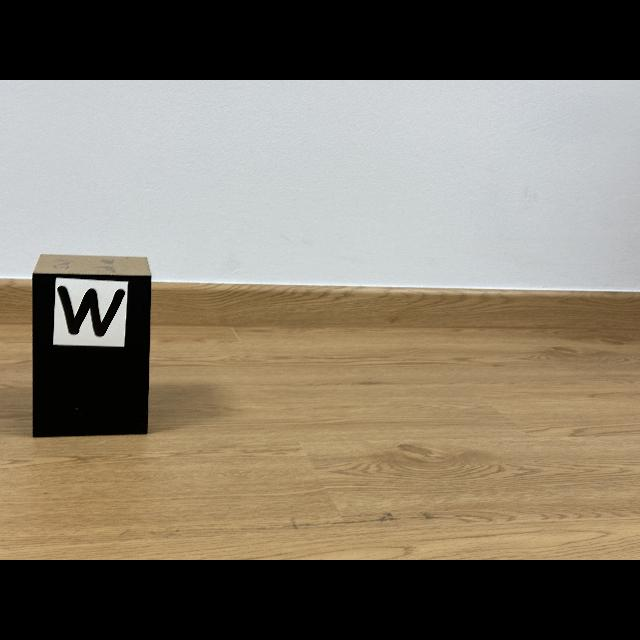W: (58, 286, 125, 336)
